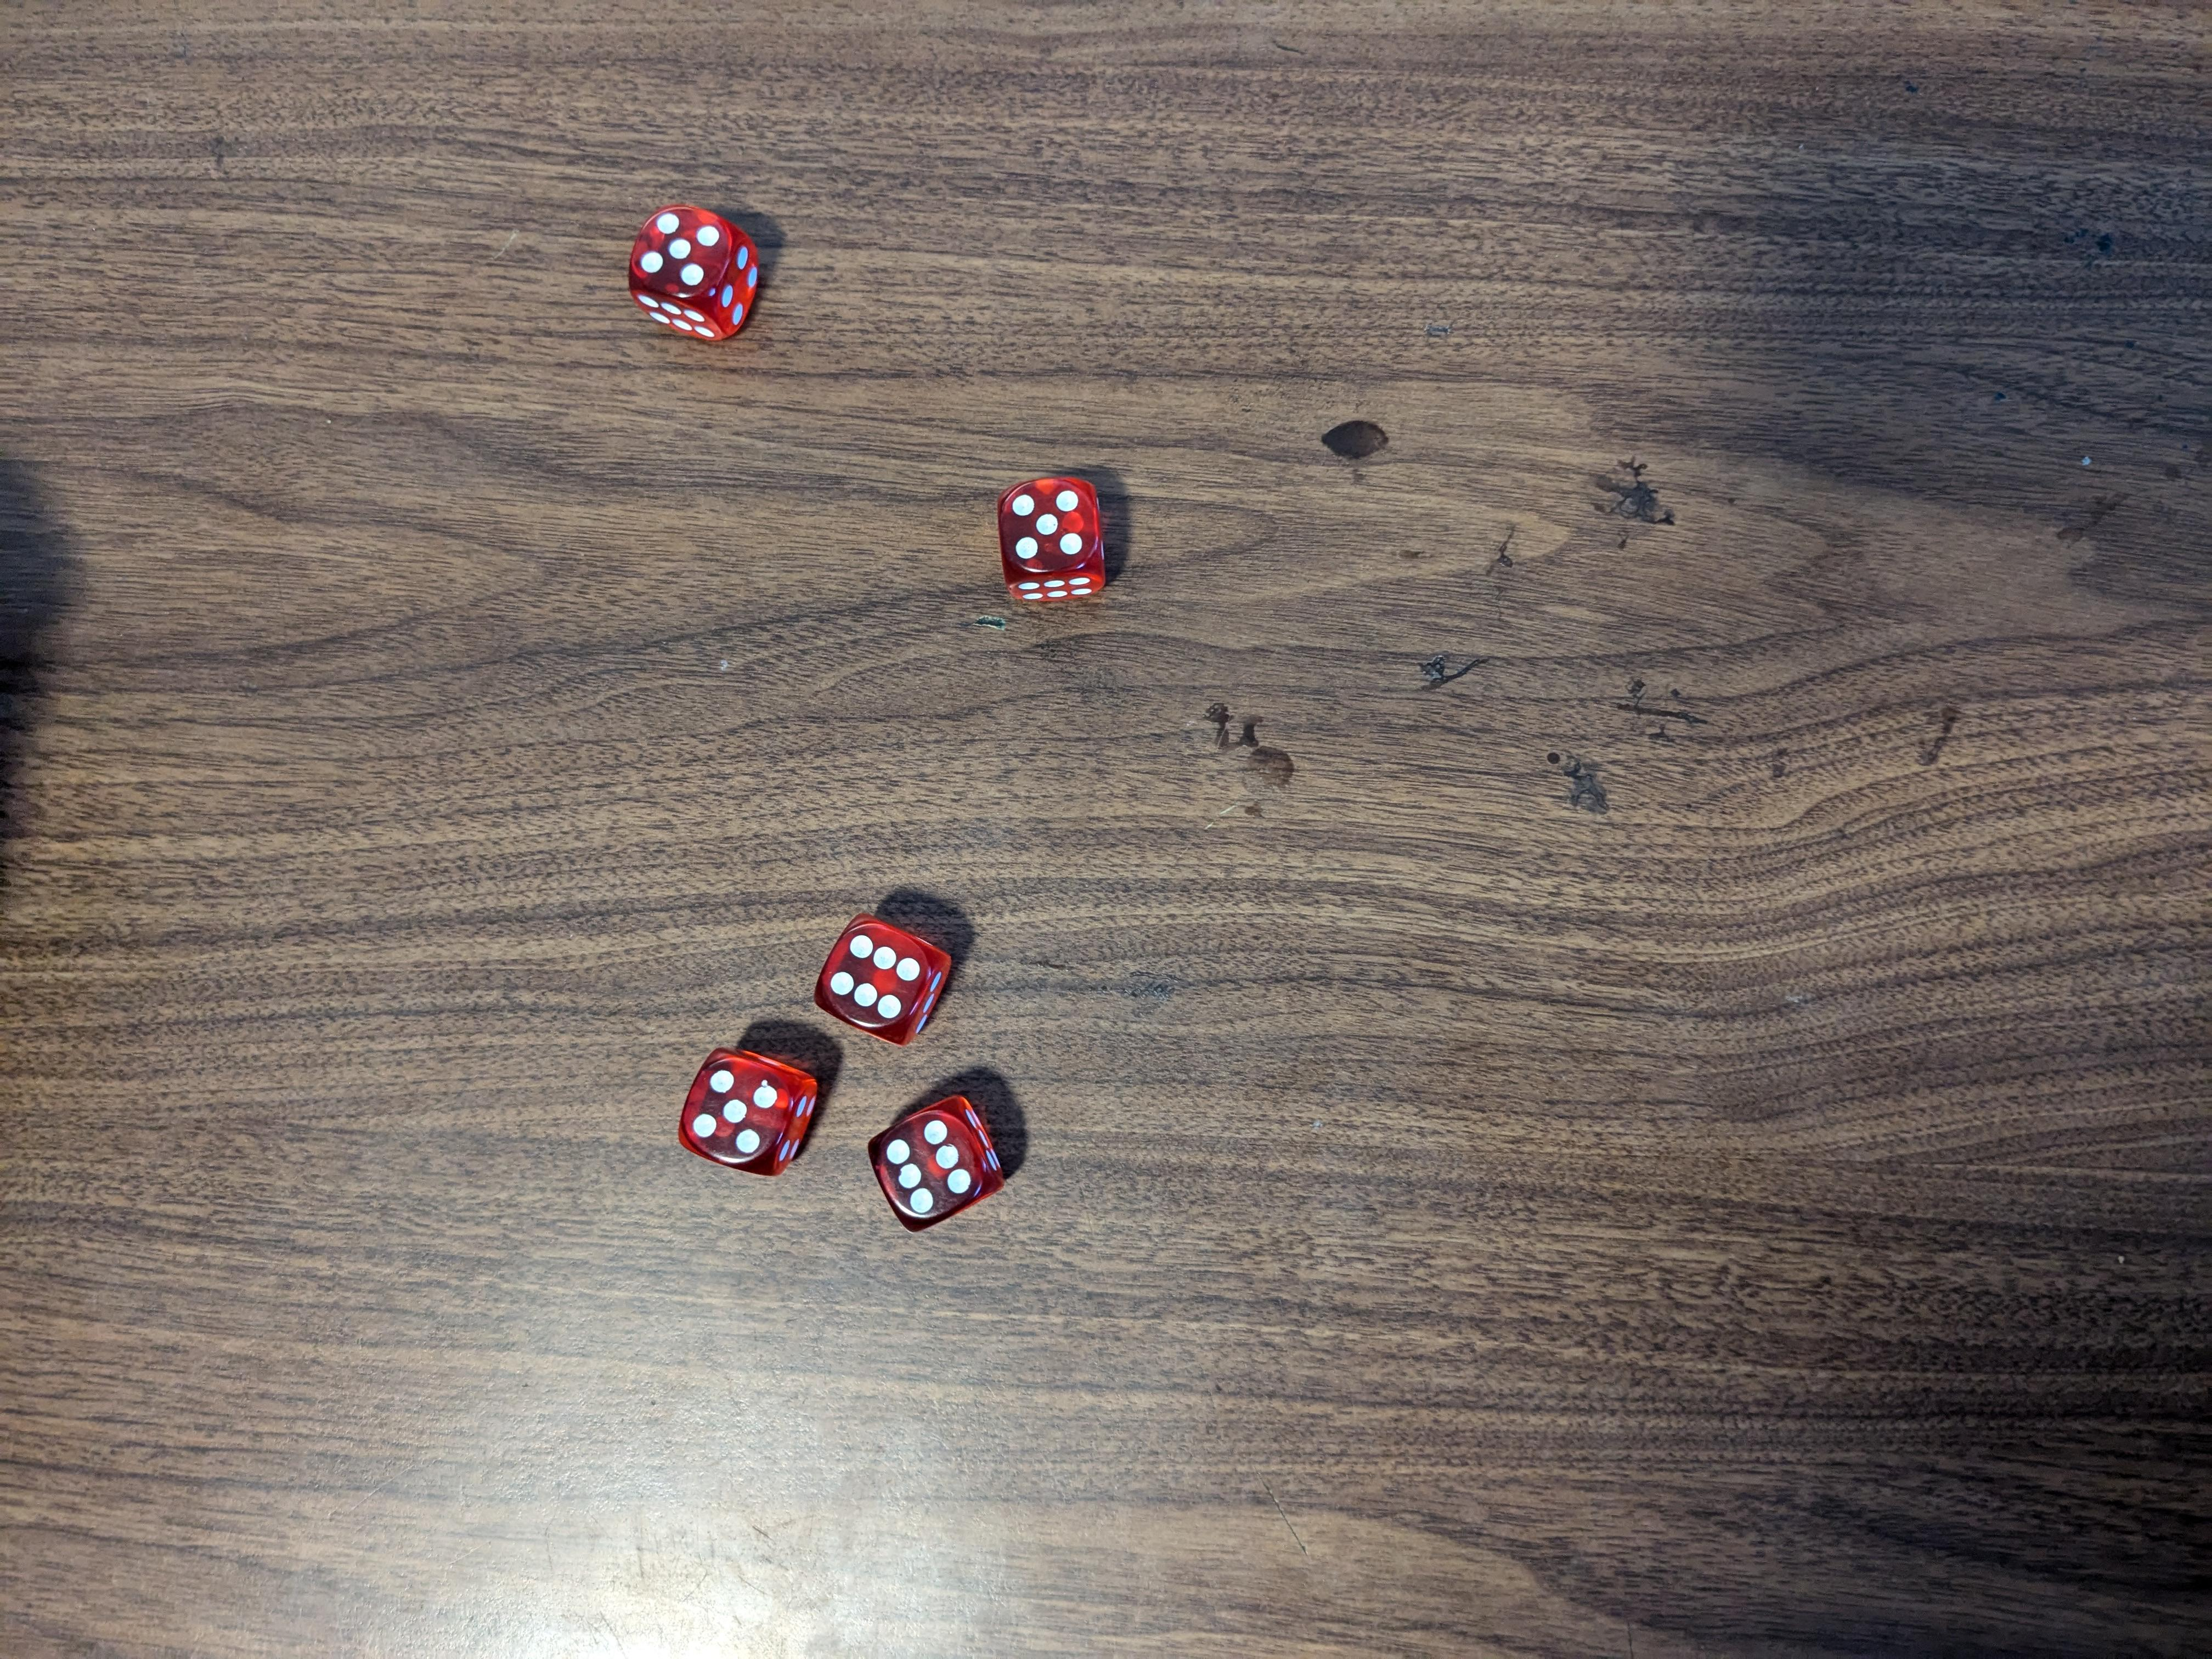five: (678, 1046, 829, 1180), (631, 200, 766, 347), (995, 467, 1111, 606)
six: (866, 1096, 1005, 1239), (813, 910, 965, 1039)
